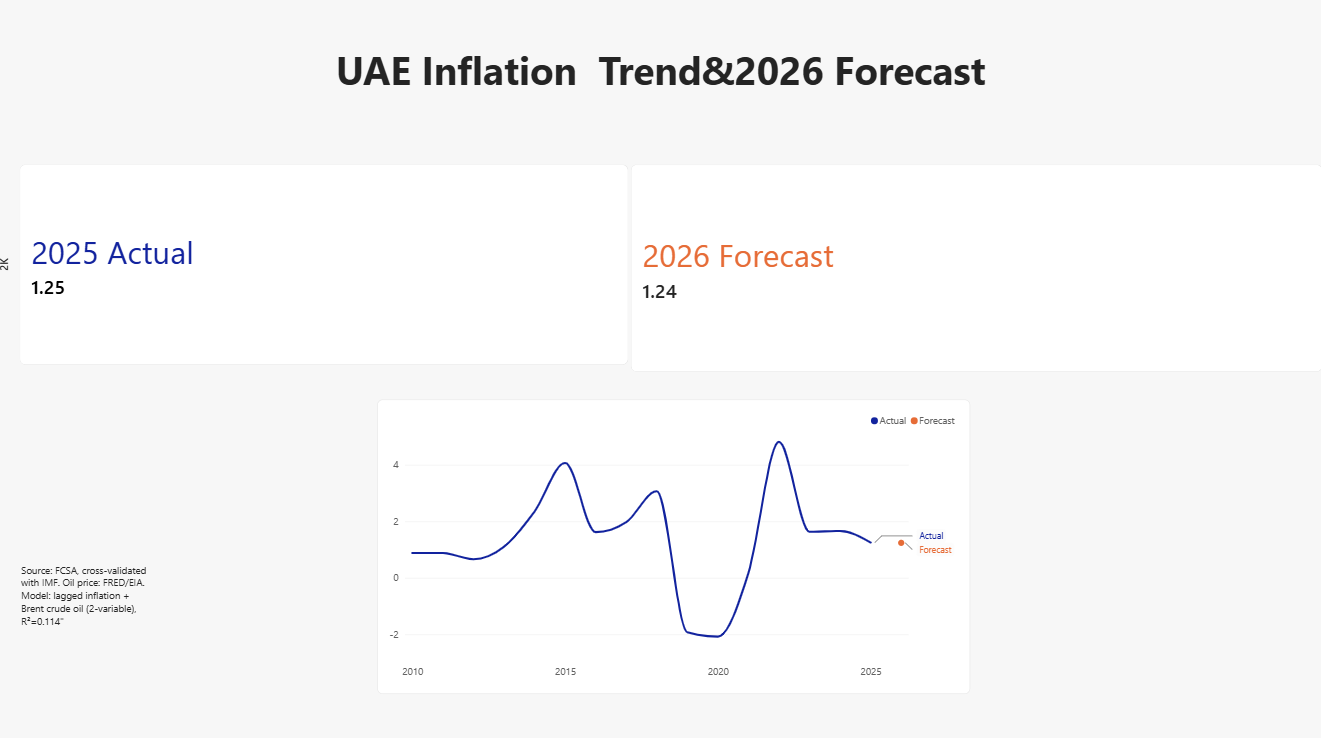

The page's visual inventory and layout, read from the dashboard file:
{"tool":"powerbi","page":{"name":"Page 1","canvas":[1920,1080],"ordinal":0},"visuals":[{"type":"lineChart","title":"UAE Headline Inflation Trend&2026 Forecast","fields":{"Category":["uae_inflation_with_forecast.year"],"Y":["Avg(uae_inflation_with_forecast.inflation)"],"Series":["uae_inflation_with_forecast.type"]},"box":[520.1,479.6,843.8,516],"z":0},{"type":"cardVisual","fields":{"Data":["Avg(uae_inflation_with_forecast.inflation)"]},"box":[1007.8,159.9,912.7,301.5],"z":1000},{"type":"cardVisual","fields":{"Data":["Avg(uae_inflation_with_forecast.inflation)"]},"box":[0,159.9,981.5,301.5],"z":2000},{"type":"textbox","box":[0,0,981,302],"z":2001},{"type":"textbox","box":[105.2,890.4,170,68.8],"z":2002}]}

Visuals, with their boxes in screenshot pixels (x1, y1, x2, y2), scaled from the page's 1920x1080 canvas onto the 1321x738 screenshot:
"UAE Headline Inflation Trend&2026 Forecast" lineChart: box=[358, 328, 938, 680]
cardVisual - Avg(uae_inflation_with_forecast.inflation): box=[693, 109, 1320, 315]
cardVisual - Avg(uae_inflation_with_forecast.inflation): box=[0, 109, 675, 315]
textbox: box=[0, 0, 675, 206]
textbox: box=[72, 608, 189, 655]
